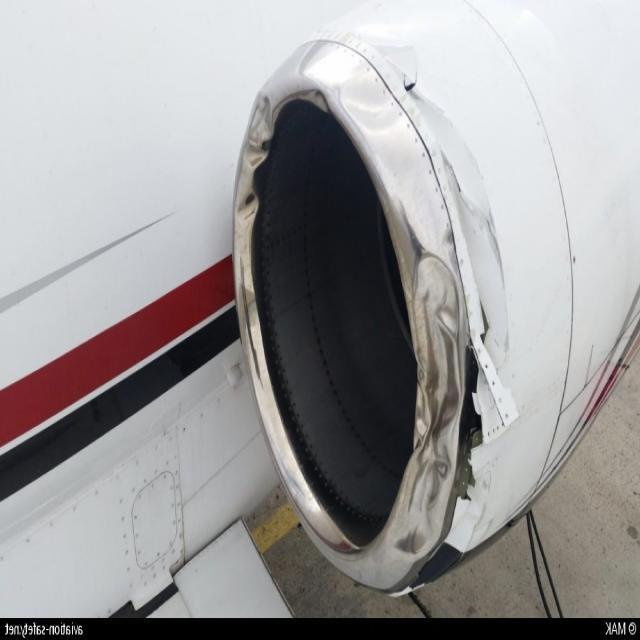dent: (394, 250, 467, 560), (237, 95, 271, 377), (346, 80, 398, 131)
